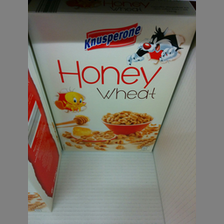cereal: (28, 12, 196, 152)
